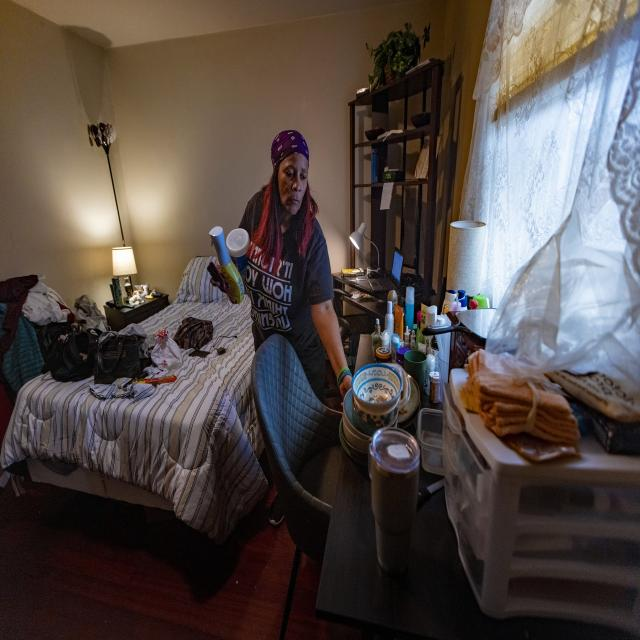adult: (212, 129, 352, 400)
